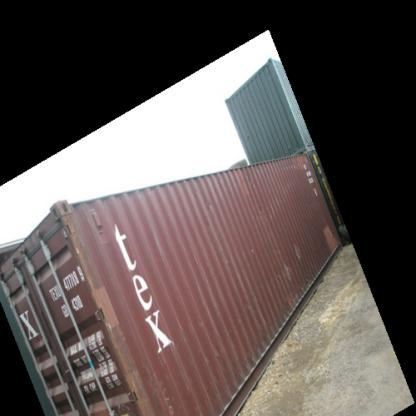Damage: (54, 205, 105, 288), (110, 320, 153, 400), (224, 290, 262, 323), (245, 187, 282, 220), (200, 342, 233, 379), (267, 255, 296, 292), (199, 195, 226, 232), (276, 158, 304, 175), (241, 238, 257, 256)
